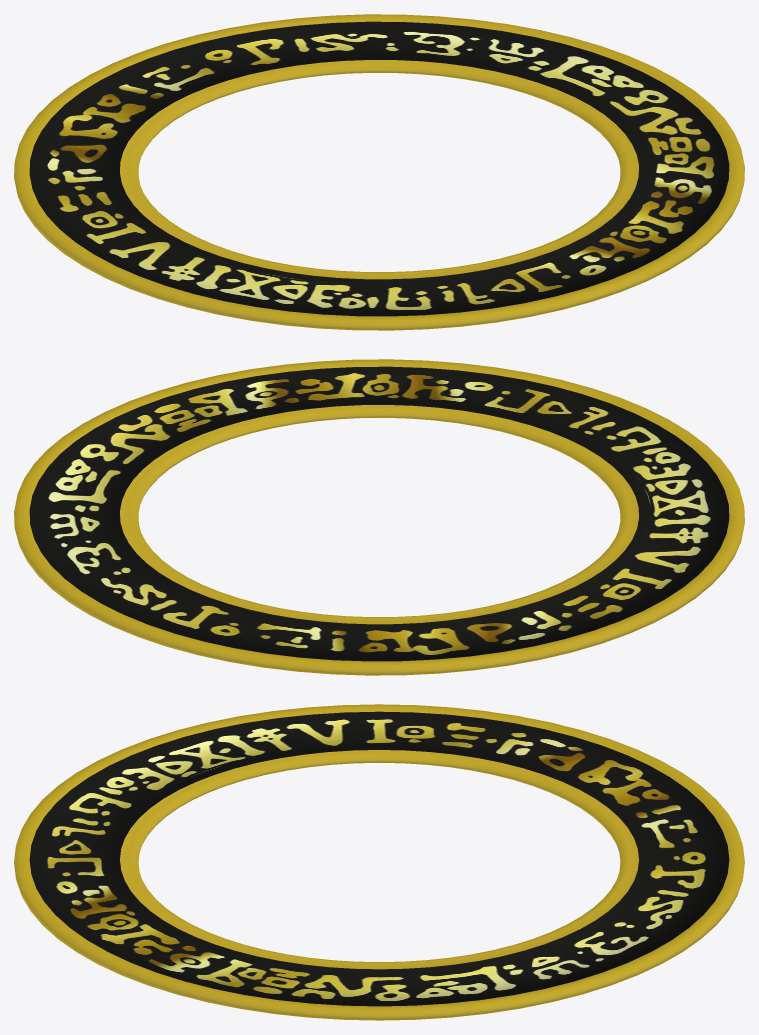
The model's file is rune_ring.glb.
The picture shows the model from 3 angles, top to bottom: view 1: azimuth 30°, elevation 25°; view 2: azimuth 150°, elevation 25°; view 3: azimuth 270°, elevation 25°; orthographic projection.
Visible parts, largest first — view 1: Dark Magician Ring_02 - Default_0, Dark Magician Ring_03 - Default_0; view 2: Dark Magician Ring_02 - Default_0, Dark Magician Ring_03 - Default_0; view 3: Dark Magician Ring_02 - Default_0, Dark Magician Ring_03 - Default_0.
Part boxes in pixels (box(x1,y1,x2,y2)): Dark Magician Ring_02 - Default_0: box(29, 21, 729, 316); Dark Magician Ring_03 - Default_0: box(14, 14, 744, 330); Dark Magician Ring_02 - Default_0: box(29, 366, 729, 661); Dark Magician Ring_03 - Default_0: box(14, 359, 744, 675); Dark Magician Ring_02 - Default_0: box(29, 711, 729, 1006); Dark Magician Ring_03 - Default_0: box(14, 704, 744, 1020).
Size of the model in its own units: 1 by 0.0154 by 1.
Materials: 2 (2 with a texture image).
